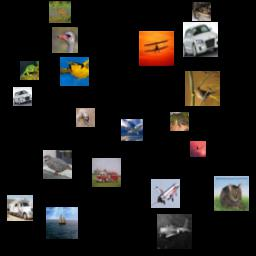airplane: (139, 31, 174, 66), (157, 214, 192, 249), (151, 179, 180, 208), (121, 119, 143, 141), (190, 141, 206, 157)
automobile: (183, 22, 218, 57), (13, 87, 32, 106)
bird: (185, 71, 220, 106), (43, 150, 72, 179), (60, 57, 89, 86), (52, 27, 78, 53)
cat: (214, 176, 249, 211)
deer: (49, 1, 71, 23)
dog: (76, 108, 95, 127), (192, 2, 211, 21)
frog: (20, 61, 39, 80), (170, 112, 189, 131)
ship: (46, 207, 78, 239)
truck: (92, 158, 121, 187), (7, 195, 33, 221)
